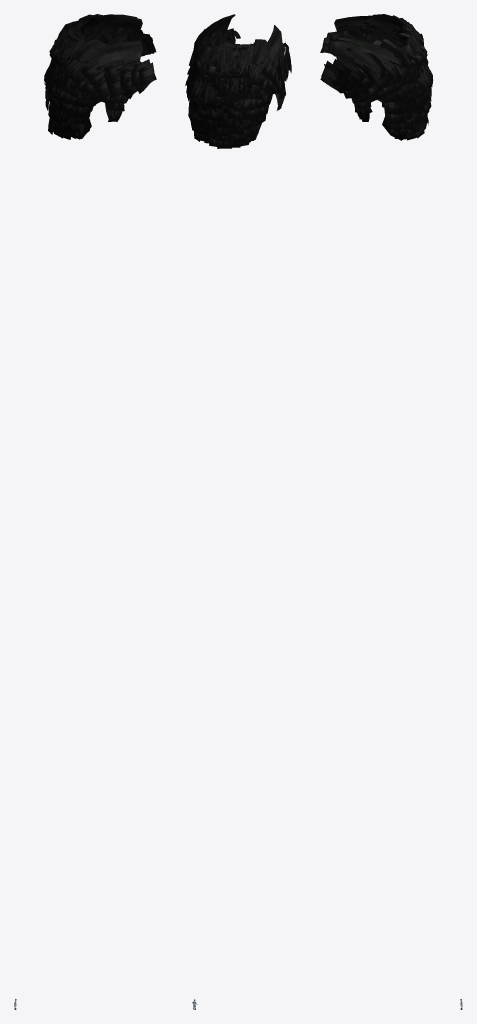
The model's file is doctor.fbx.
3 renders of one model, left to right at view 1: azimuth 90°, elevation 25°; view 2: azimuth 150°, elevation 25°; view 3: azimuth 270°, elevation 25°, orthographic. The views are drawn at different scales.
Parts seen in each view (by area): view 1: NPC_DoctorOfKoreanMedicine_Mesh_0; view 2: NPC_DoctorOfKoreanMedicine_Mesh_0; view 3: NPC_DoctorOfKoreanMedicine_Mesh_0.
Boxes of the visible parts, x1=… form: NPC_DoctorOfKoreanMedicine_Mesh_0: x1=14, y1=14, x2=156, y2=1009; NPC_DoctorOfKoreanMedicine_Mesh_0: x1=185, y1=14, x2=291, y2=1009; NPC_DoctorOfKoreanMedicine_Mesh_0: x1=320, y1=14, x2=462, y2=1009.
Bounding box in the file's own units: 1609 × 16994 × 2232.
Materials: 2 (2 with a texture image).
